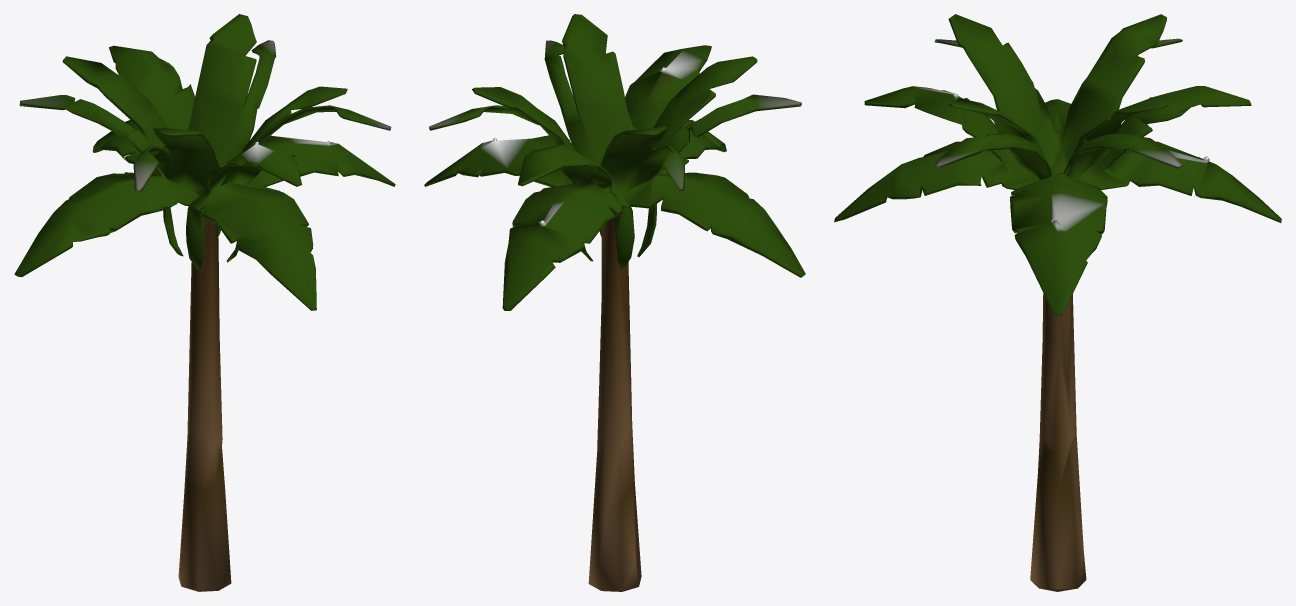
The model's file is gen3d-cycad-palm-lod1.glb.
The picture shows the model from 3 angles, left to right: view 1: azimuth 30°, elevation 25°; view 2: azimuth 150°, elevation 25°; view 3: azimuth 270°, elevation 25°; orthographic projection. The views are drawn at different scales.
Parts seen in each view (by area): view 1: part_0; view 2: part_0; view 3: part_0.
Part boxes in pixels (x1,y1,x2,y2): part_0: (14,14,395,591); part_0: (424,14,805,591); part_0: (834,14,1281,591).
Bounding box in the file's own units: 0.7785 × 0.9999 × 0.7792.
